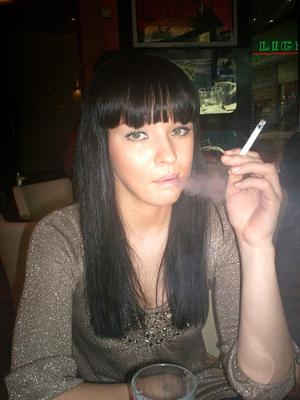person: (6, 48, 295, 398)
